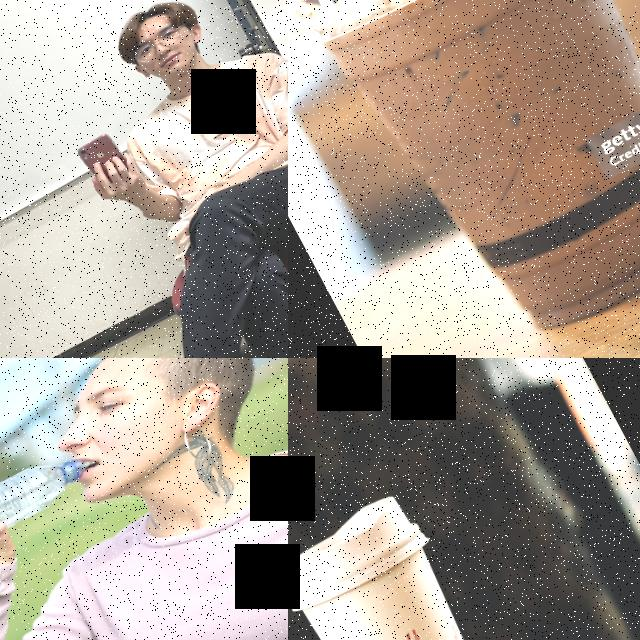bottle: (0, 434, 111, 566)
cup: (288, 0, 640, 358), (288, 486, 586, 640)
